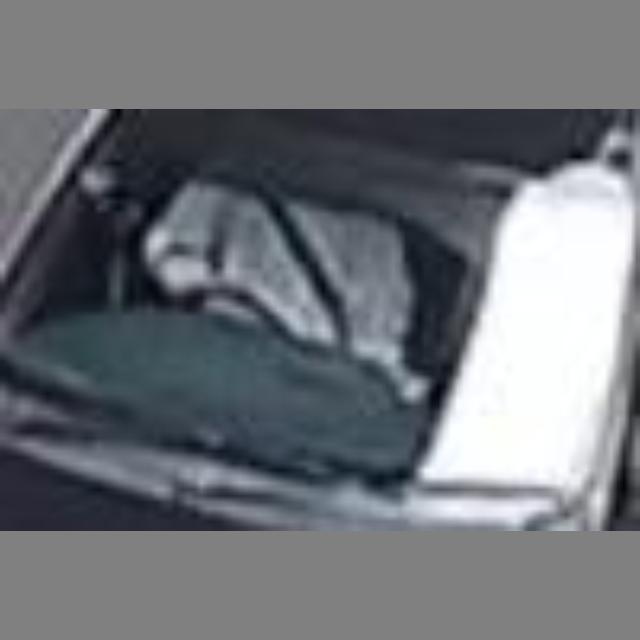pakai: (154, 173, 461, 410)
